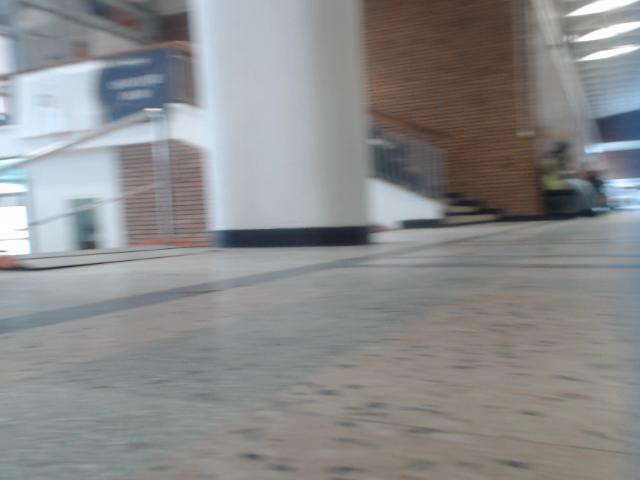rampDown: (0, 245, 207, 271)
ramps-railing: (1, 108, 174, 236)
